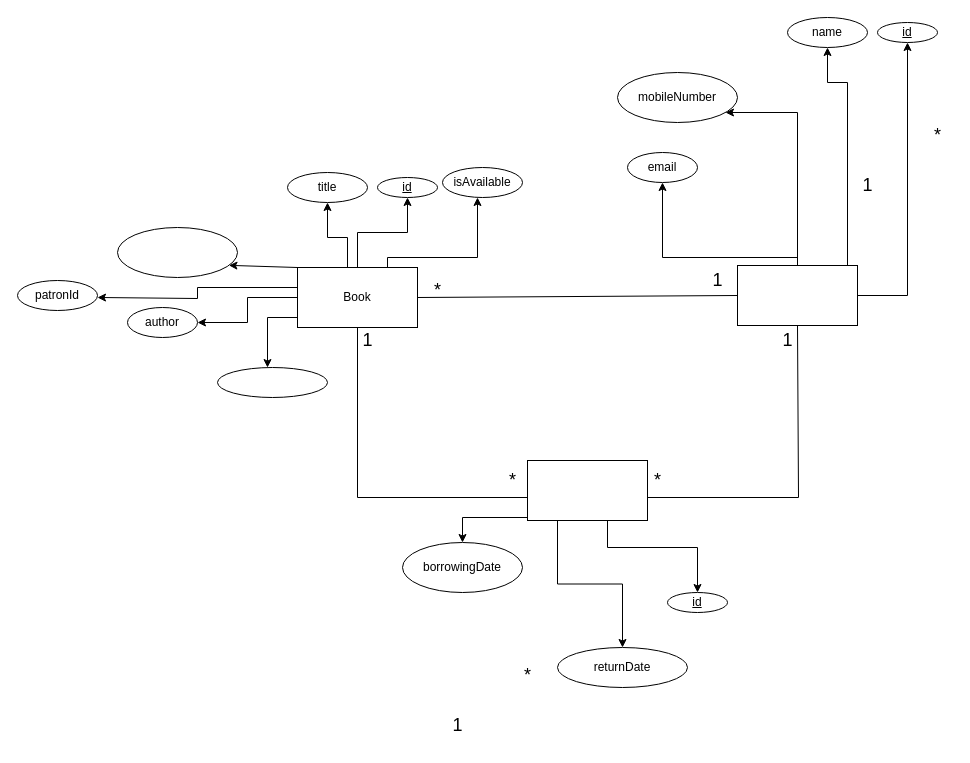
This 970x763 diagram has some shape labels left out. Each missing label, with the centre of its shape:
"Borrowing ecord" belongs at point 587,490.
"ISBN" belongs at point 272,382.
"Patron" belongs at point 797,295.
"publicationYear" belongs at point 177,252.
